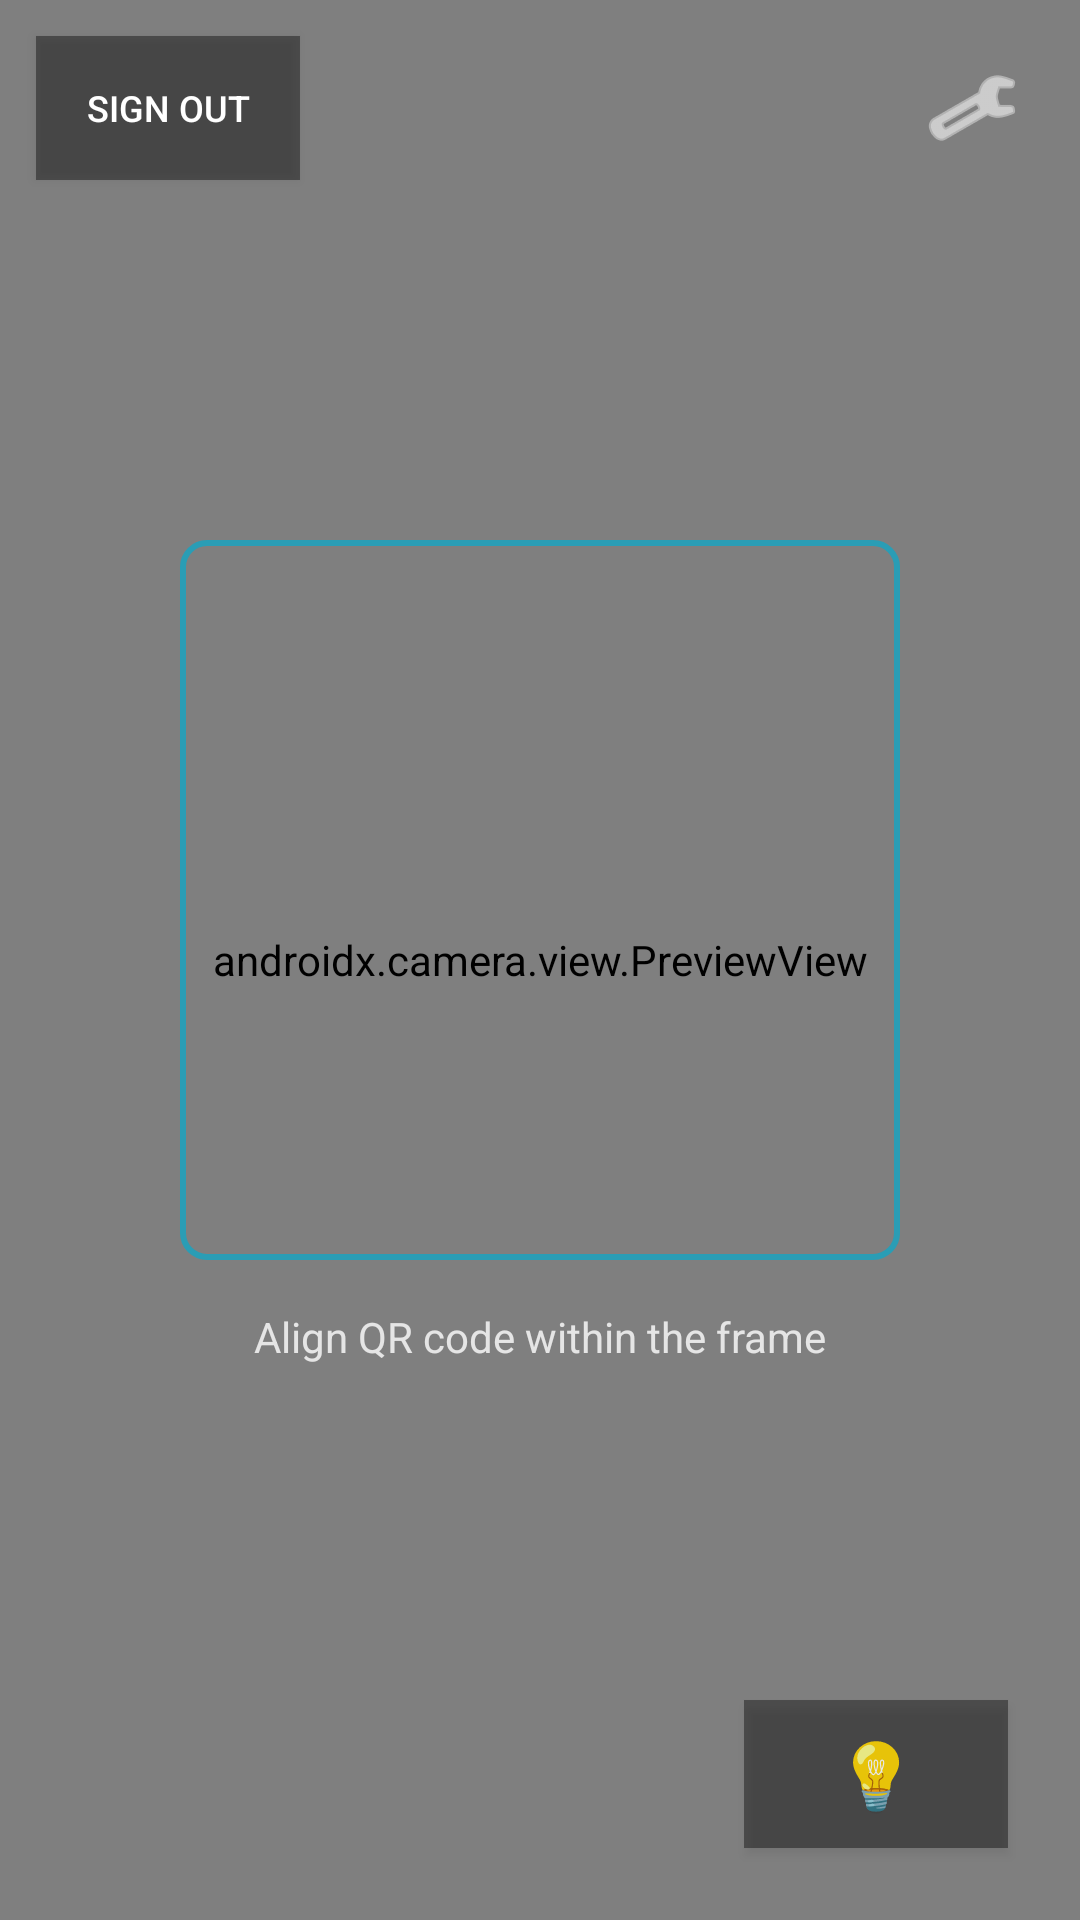

Named icons in this screenshot (1080×1920) and their centers, [x,y]:
Settings: [972,108]
